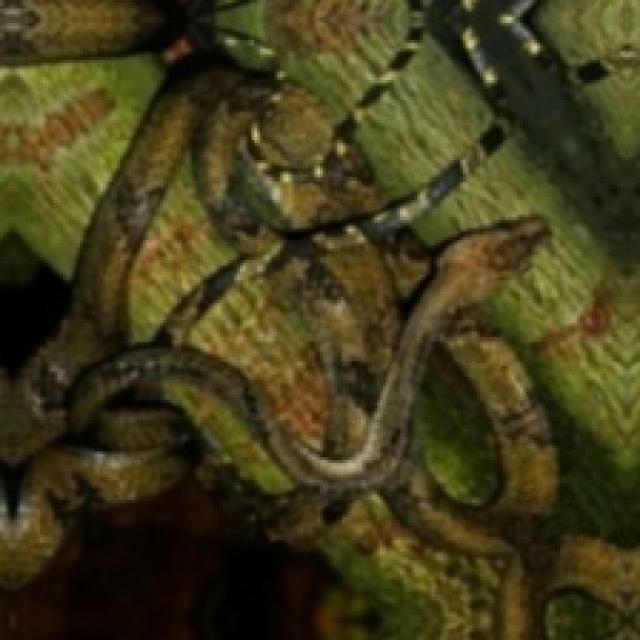dog-toothed cat snake: (0, 1, 640, 640)
